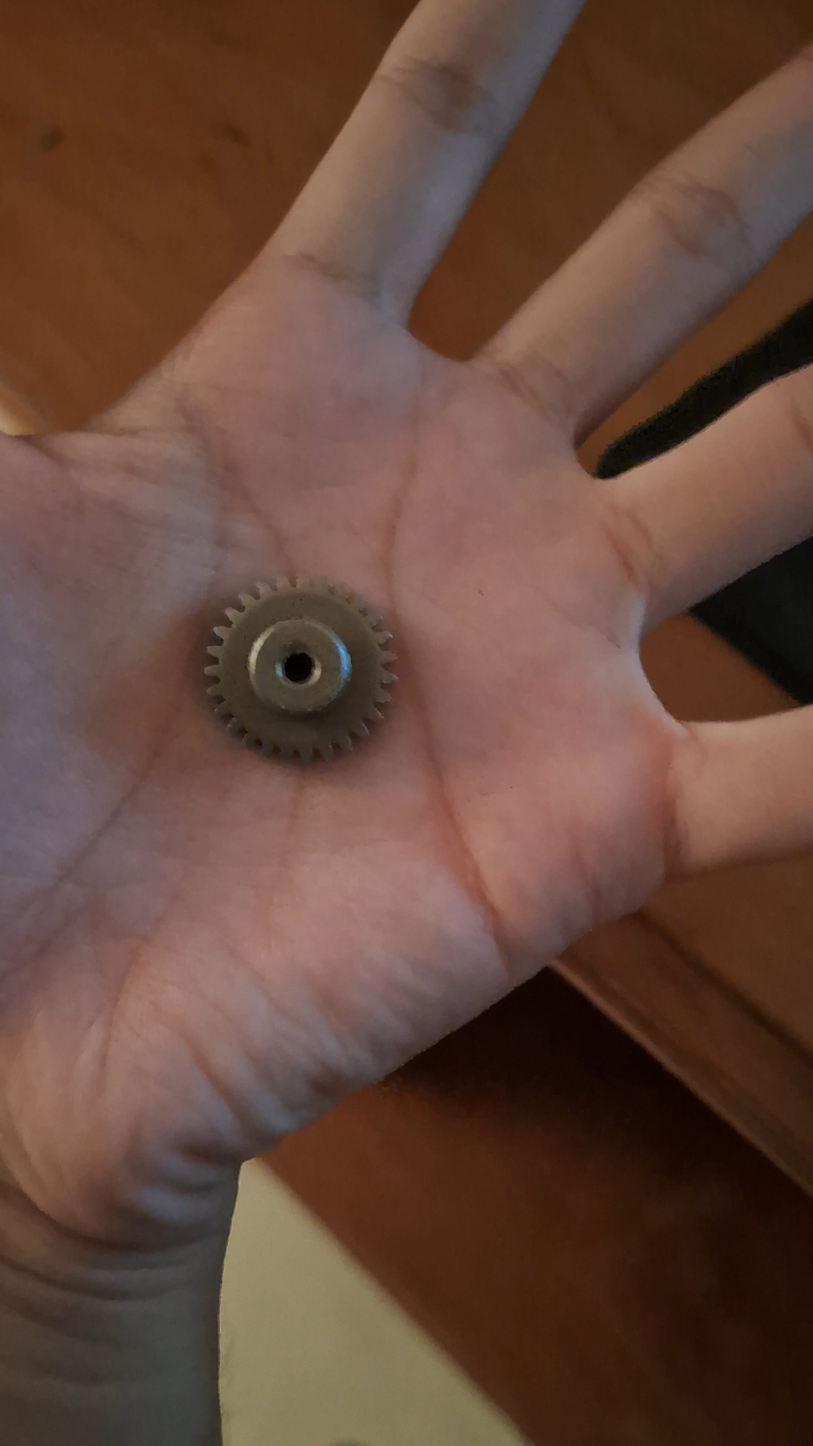spur gear: (207, 579, 396, 738)
